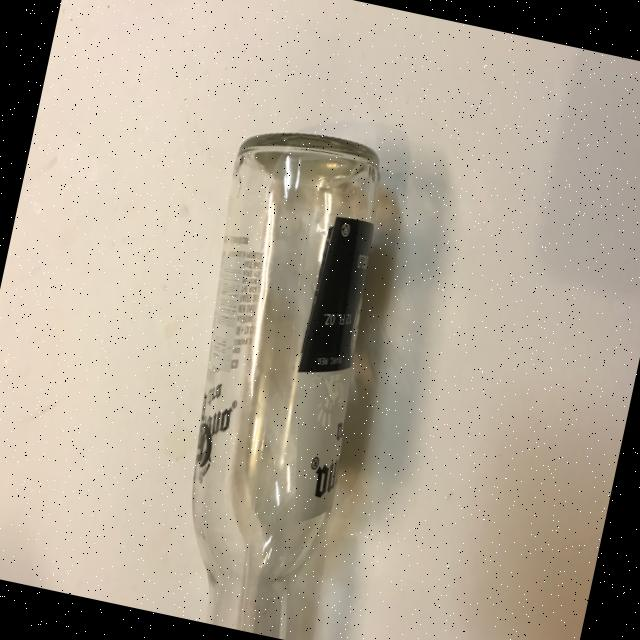glass: (139, 115, 411, 640)
